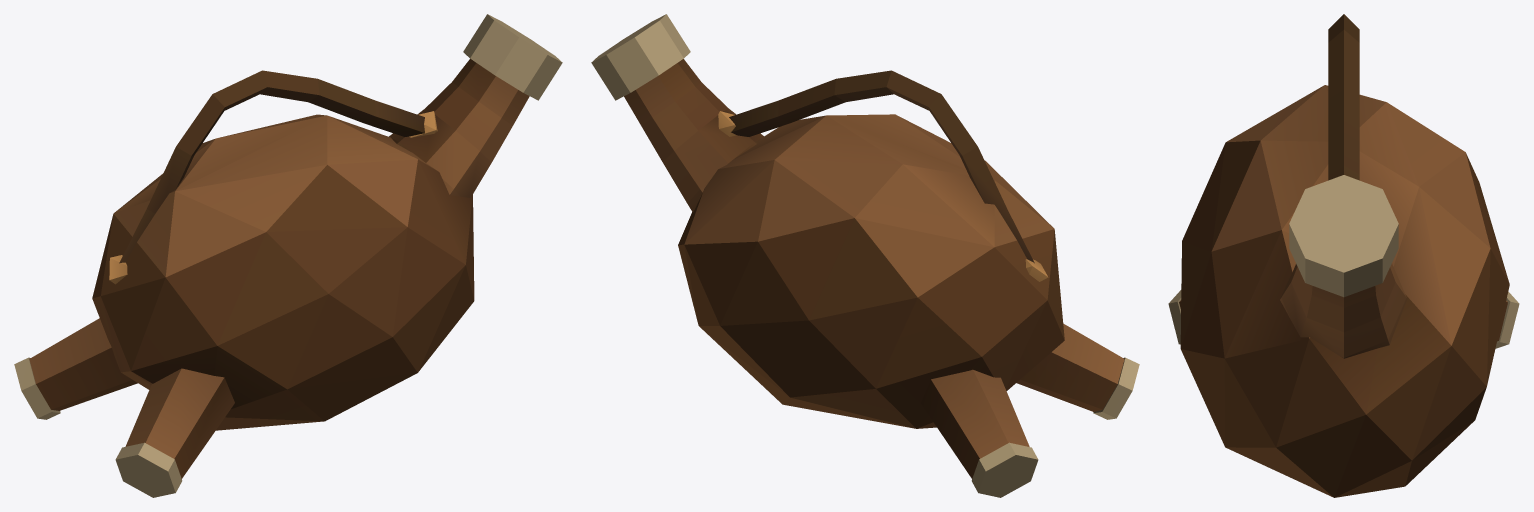
3 views of the same model, side by side, from view 1: azimuth 30°, elevation 25°; view 2: azimuth 150°, elevation 25°; view 3: azimuth 270°, elevation 25° (orthographic). The views are drawn at different scales.
Parts seen in each view (by area): view 1: base; view 2: base; view 3: base.
Boxes of the visible parts, x1,y1,x2,y2 form: base: (14,14,562,497); base: (591,14,1139,497); base: (1168,14,1519,497).
Size of the model in its own units: 0.5227 by 0.3575 by 0.269.
